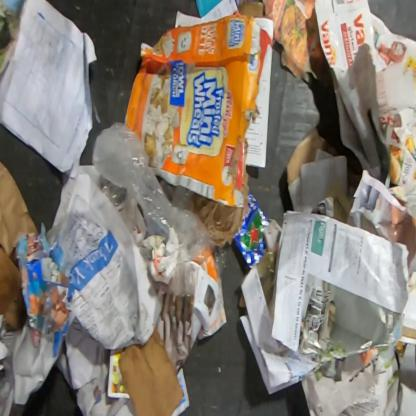cardboard: (122, 8, 276, 208), (118, 318, 184, 415), (16, 223, 71, 334), (286, 129, 342, 188), (0, 245, 26, 331)
metal: (233, 193, 270, 270)
rigid_plastic: (97, 175, 137, 228)
soft_plastic: (92, 121, 230, 276)
